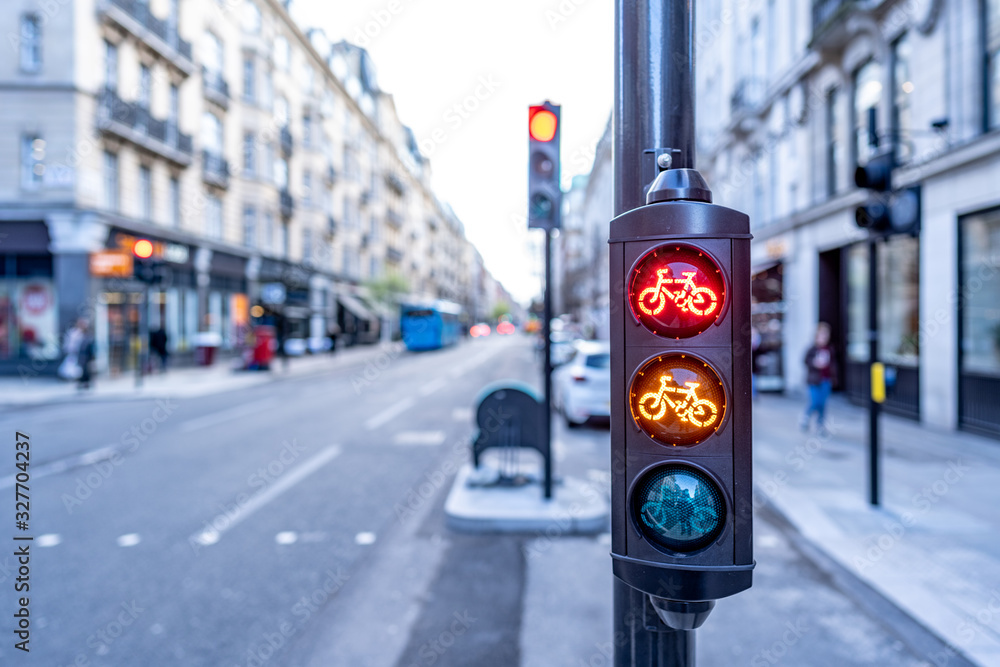TraficLight: (579, 165, 777, 630)
